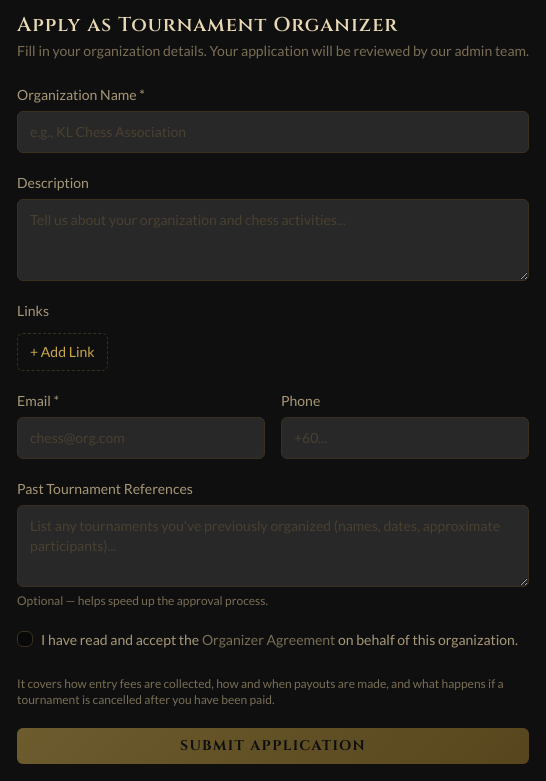
ApplyForm › initial render › cannot be submitted until the Organizer Agreement is accepted
expect the button "Submit Application" is disabled: met, box [17, 728, 529, 764]
Step 1. Click the checkbox labelled "I have read and accept the Organizer Agreement" → (25, 639), box [17, 631, 33, 647]
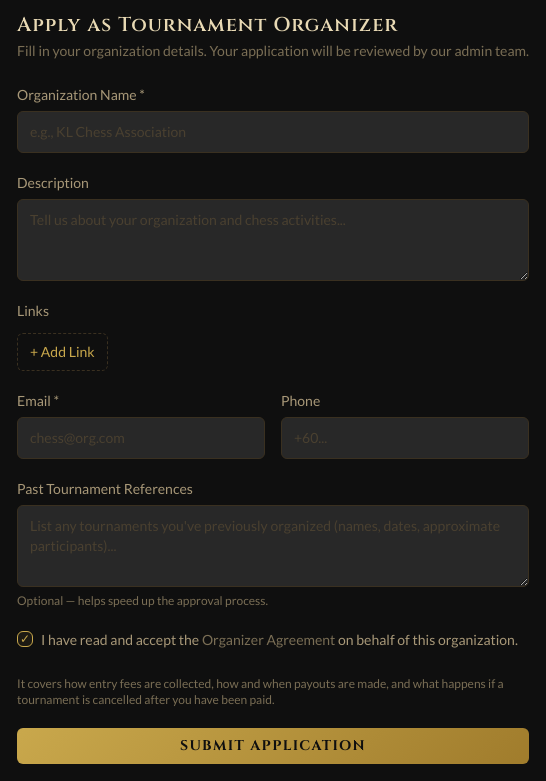
expect the button "Submit Application" is enabled: met, box [17, 728, 529, 764]
